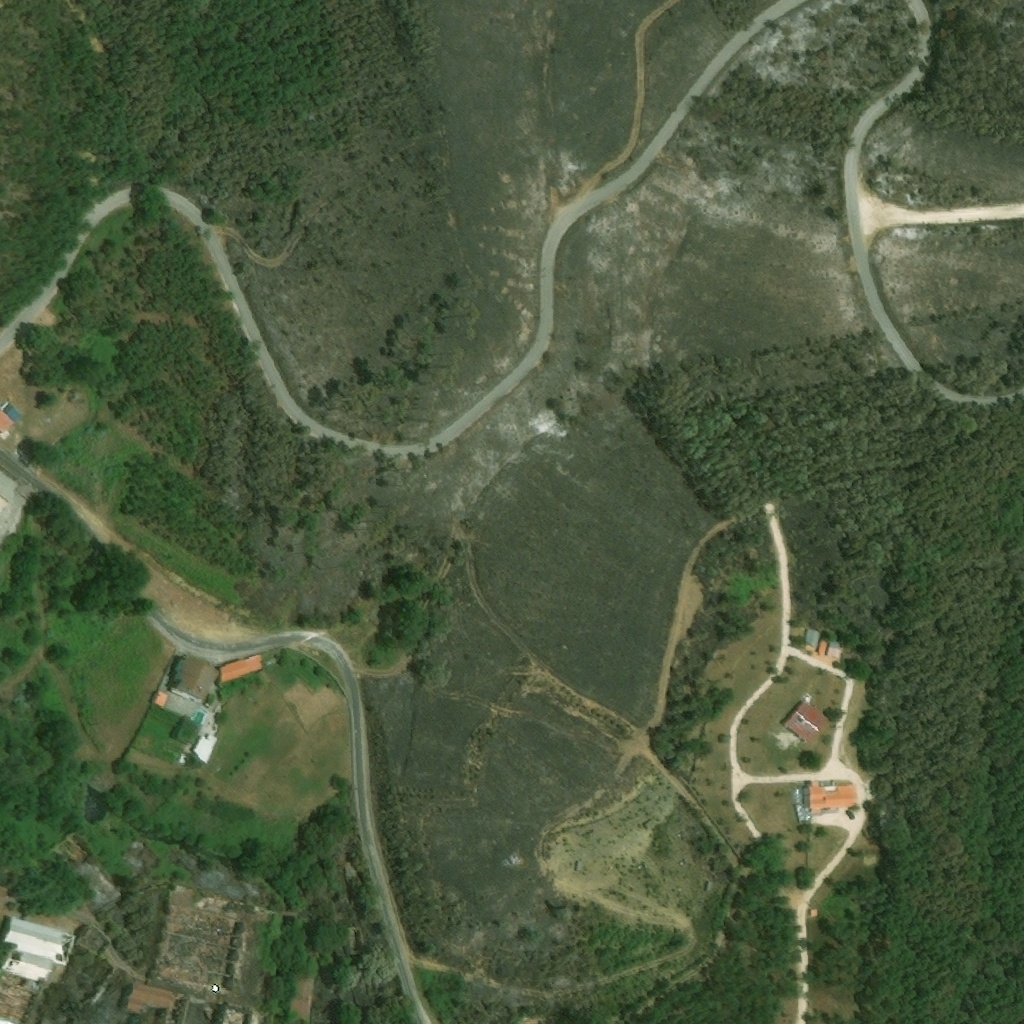0 no-damage: (170, 652, 222, 705), (805, 783, 861, 810), (124, 984, 173, 1014), (221, 654, 266, 684), (192, 733, 220, 766), (0, 399, 24, 437), (0, 469, 19, 516), (154, 689, 171, 707), (643, 819, 656, 830), (576, 860, 584, 872), (705, 881, 712, 893), (810, 909, 819, 917)
2 major-damage: (0, 915, 78, 967), (1, 949, 57, 987), (0, 885, 10, 907)
3 destroyed: (169, 902, 251, 933), (164, 933, 242, 960), (161, 949, 235, 975), (158, 964, 231, 989), (172, 921, 243, 946), (215, 1002, 254, 1023), (0, 990, 37, 1009), (62, 830, 88, 855), (0, 999, 32, 1018), (0, 1011, 28, 1023)
